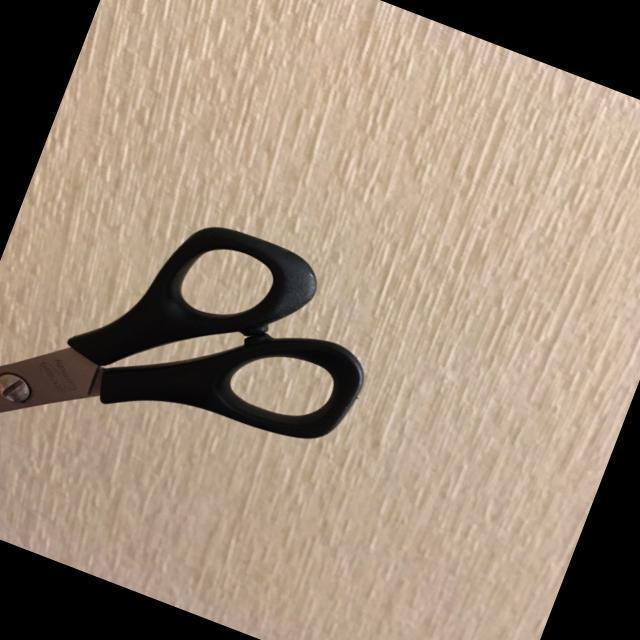scissors: (0, 154, 399, 558)
